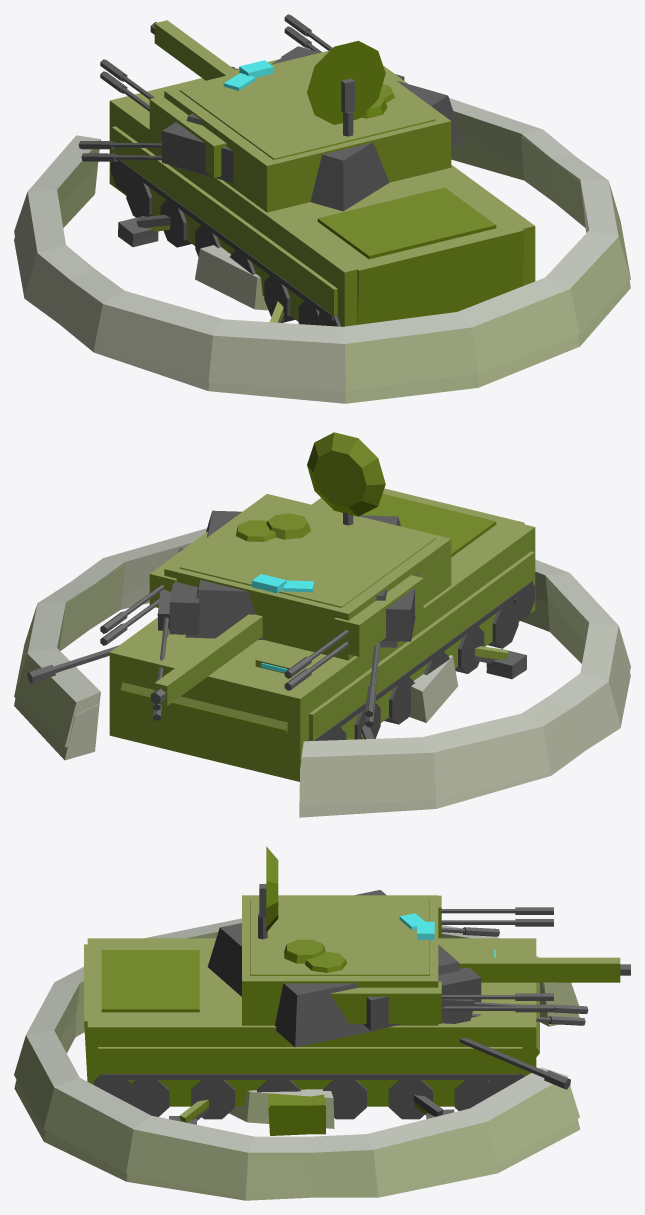
File: aaa.glb
3 views of the same model, one above another, from view 1: azimuth 30°, elevation 25°; view 2: azimuth 150°, elevation 25°; view 3: azimuth 270°, elevation 25° (orthographic). The views are drawn at different scales.
Parts seen in each view (by area): view 1: aaa_111_lod0_s1v0, aaa_110_lod0_s1v0, aaa_110_lod1_s1v0, aaa_111_lod0_s1v1, aaa_110_lod0_s1v0_part1, aaa_110_lod0_s1v1, aaa_110_lod0_s1v0_part3, aaa_112_lod0_s1v0, aaa_111_lod1_s1v0, aaa_110_lod0_s1v0_part2; view 2: aaa_110_lod1_s1v0, aaa_111_lod0_s1v1, aaa_110_lod0_s1v0, aaa_110_lod0_s1v0_part1, aaa_111_lod0_s1v0, aaa_110_lod0_s1v1, aaa_110_lod0_s1v0_part3, aaa_111_lod1_s1v0, aaa_110_lod0_s1v0_part2, aaa_112_lod0_s1v0; view 3: aaa_110_lod0_s1v0, aaa_111_lod0_s1v0, aaa_110_lod1_s1v0, aaa_111_lod0_s1v1, aaa_110_lod0_s1v0_part1, aaa_110_lod0_s1v1, aaa_111_lod1_s1v0, aaa_110_lod0_s1v0_part2, aaa_112_lod0_s1v0, aaa_110_lod0_s1v0_part3.
Part boxes in pixels (left/top/right/bottom): aaa_111_lod0_s1v0: left=14, top=133, right=630, bottom=391; aaa_110_lod0_s1v0: left=111, top=94, right=524, bottom=326; aaa_110_lod1_s1v0: left=109, top=50, right=535, bottom=326; aaa_111_lod0_s1v1: left=14, top=98, right=630, bottom=403; aaa_110_lod0_s1v0_part1: left=149, top=54, right=435, bottom=177; aaa_110_lod0_s1v1: left=78, top=46, right=462, bottom=211; aaa_110_lod0_s1v0_part3: left=307, top=40, right=385, bottom=136; aaa_112_lod0_s1v0: left=195, top=245, right=268, bottom=310; aaa_111_lod1_s1v0: left=154, top=20, right=238, bottom=80; aaa_110_lod0_s1v0_part2: left=100, top=14, right=332, bottom=111; aaa_110_lod1_s1v0: left=109, top=490, right=535, bottom=781; aaa_111_lod0_s1v1: left=14, top=564, right=630, bottom=804; aaa_110_lod0_s1v0: left=120, top=488, right=534, bottom=741; aaa_110_lod0_s1v0_part1: left=149, top=498, right=435, bottom=656; aaa_111_lod0_s1v0: left=14, top=528, right=630, bottom=817; aaa_110_lod0_s1v1: left=153, top=510, right=417, bottom=727; aaa_110_lod0_s1v0_part3: left=307, top=432, right=385, bottom=525; aaa_111_lod1_s1v0: left=154, top=614, right=262, bottom=705; aaa_110_lod0_s1v0_part2: left=100, top=584, right=348, bottom=690; aaa_112_lod0_s1v0: left=409, top=655, right=458, bottom=722; aaa_110_lod0_s1v0: left=84, top=944, right=539, bottom=1119; aaa_111_lod0_s1v0: left=14, top=918, right=580, bottom=1197; aaa_110_lod1_s1v0: left=87, top=895, right=536, bottom=1106; aaa_111_lod0_s1v1: left=14, top=925, right=579, bottom=1200; aaa_110_lod0_s1v0_part1: left=250, top=895, right=441, bottom=1023; aaa_110_lod0_s1v1: left=207, top=890, right=588, bottom=1047; aaa_111_lod1_s1v0: left=454, top=957, right=620, bottom=982; aaa_110_lod0_s1v0_part2: left=441, top=907, right=553, bottom=1012; aaa_112_lod0_s1v0: left=229, top=1089, right=334, bottom=1128; aaa_110_lod0_s1v0_part3: left=258, top=846, right=278, bottom=939.
Bounding box in the file's own units: 136 × 60.98 × 144.
